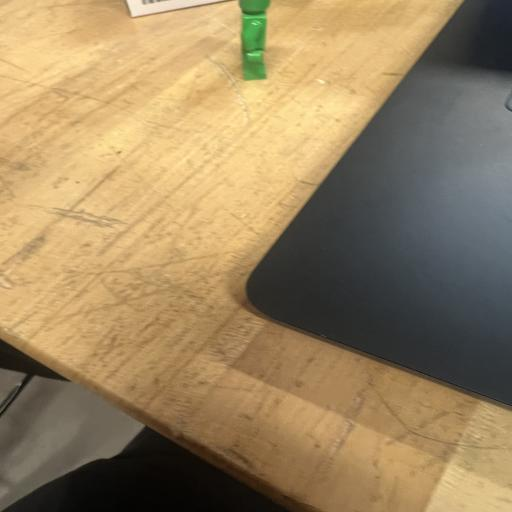green-lego-minifigure-detector: (239, 0, 270, 80)
